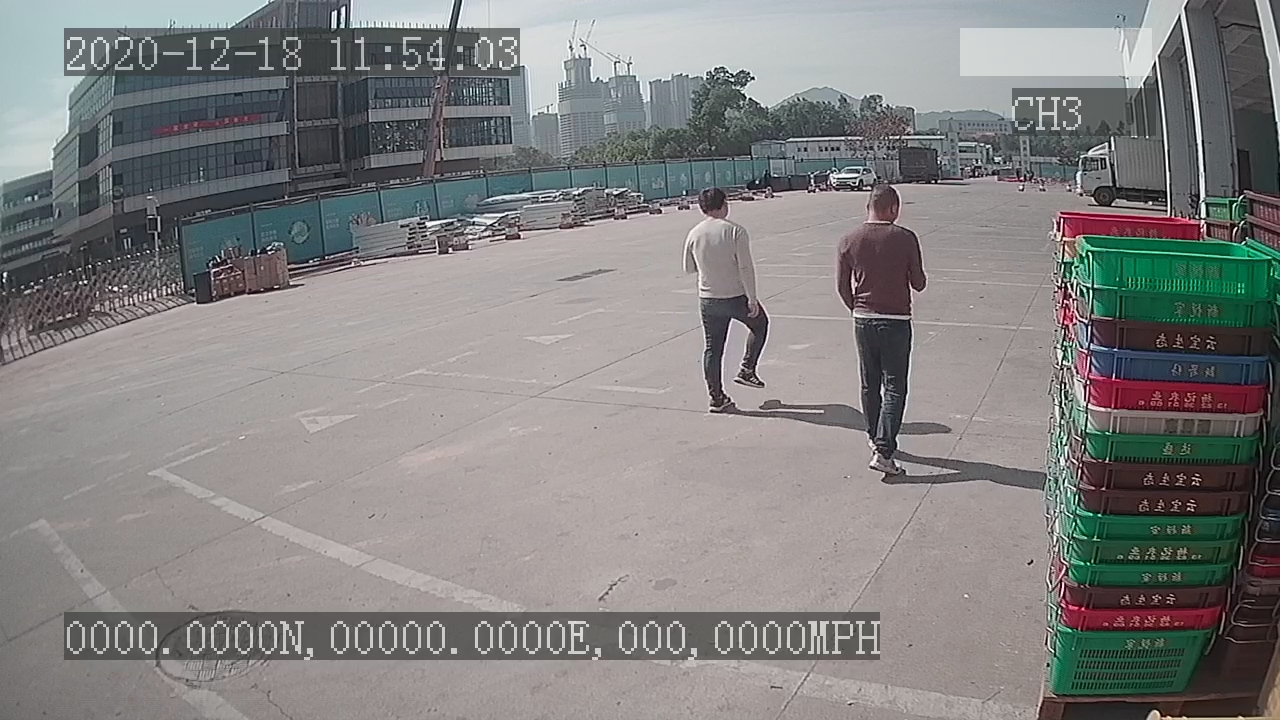person: (829, 186, 936, 477), (679, 183, 770, 415)
